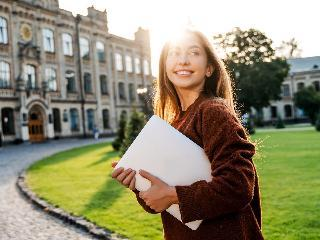person - v3 P: (112, 29, 263, 239), (94, 125, 98, 139)
